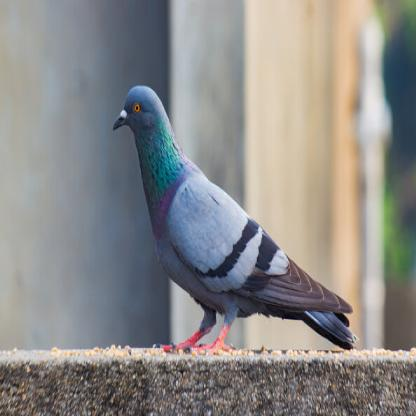Rock Pigeon: (113, 74, 362, 351)
